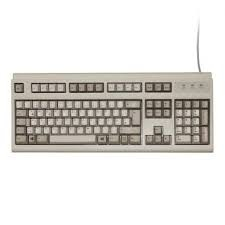keyboard: (6, 68, 217, 158)
